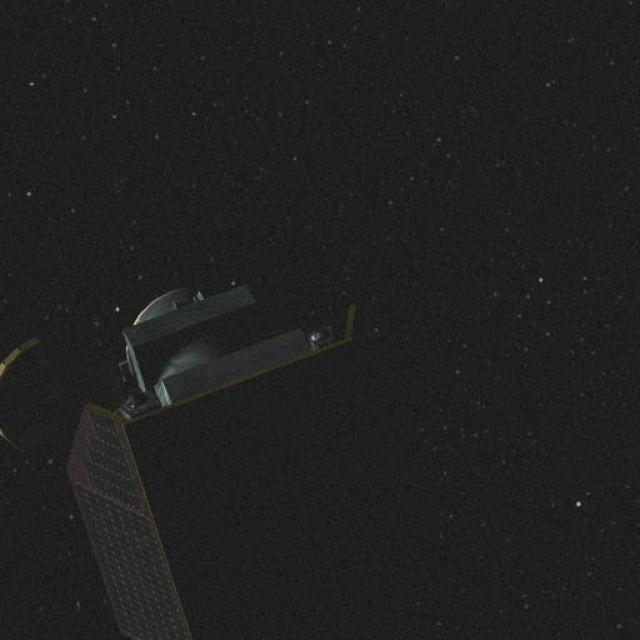debris: (19, 250, 416, 640)
